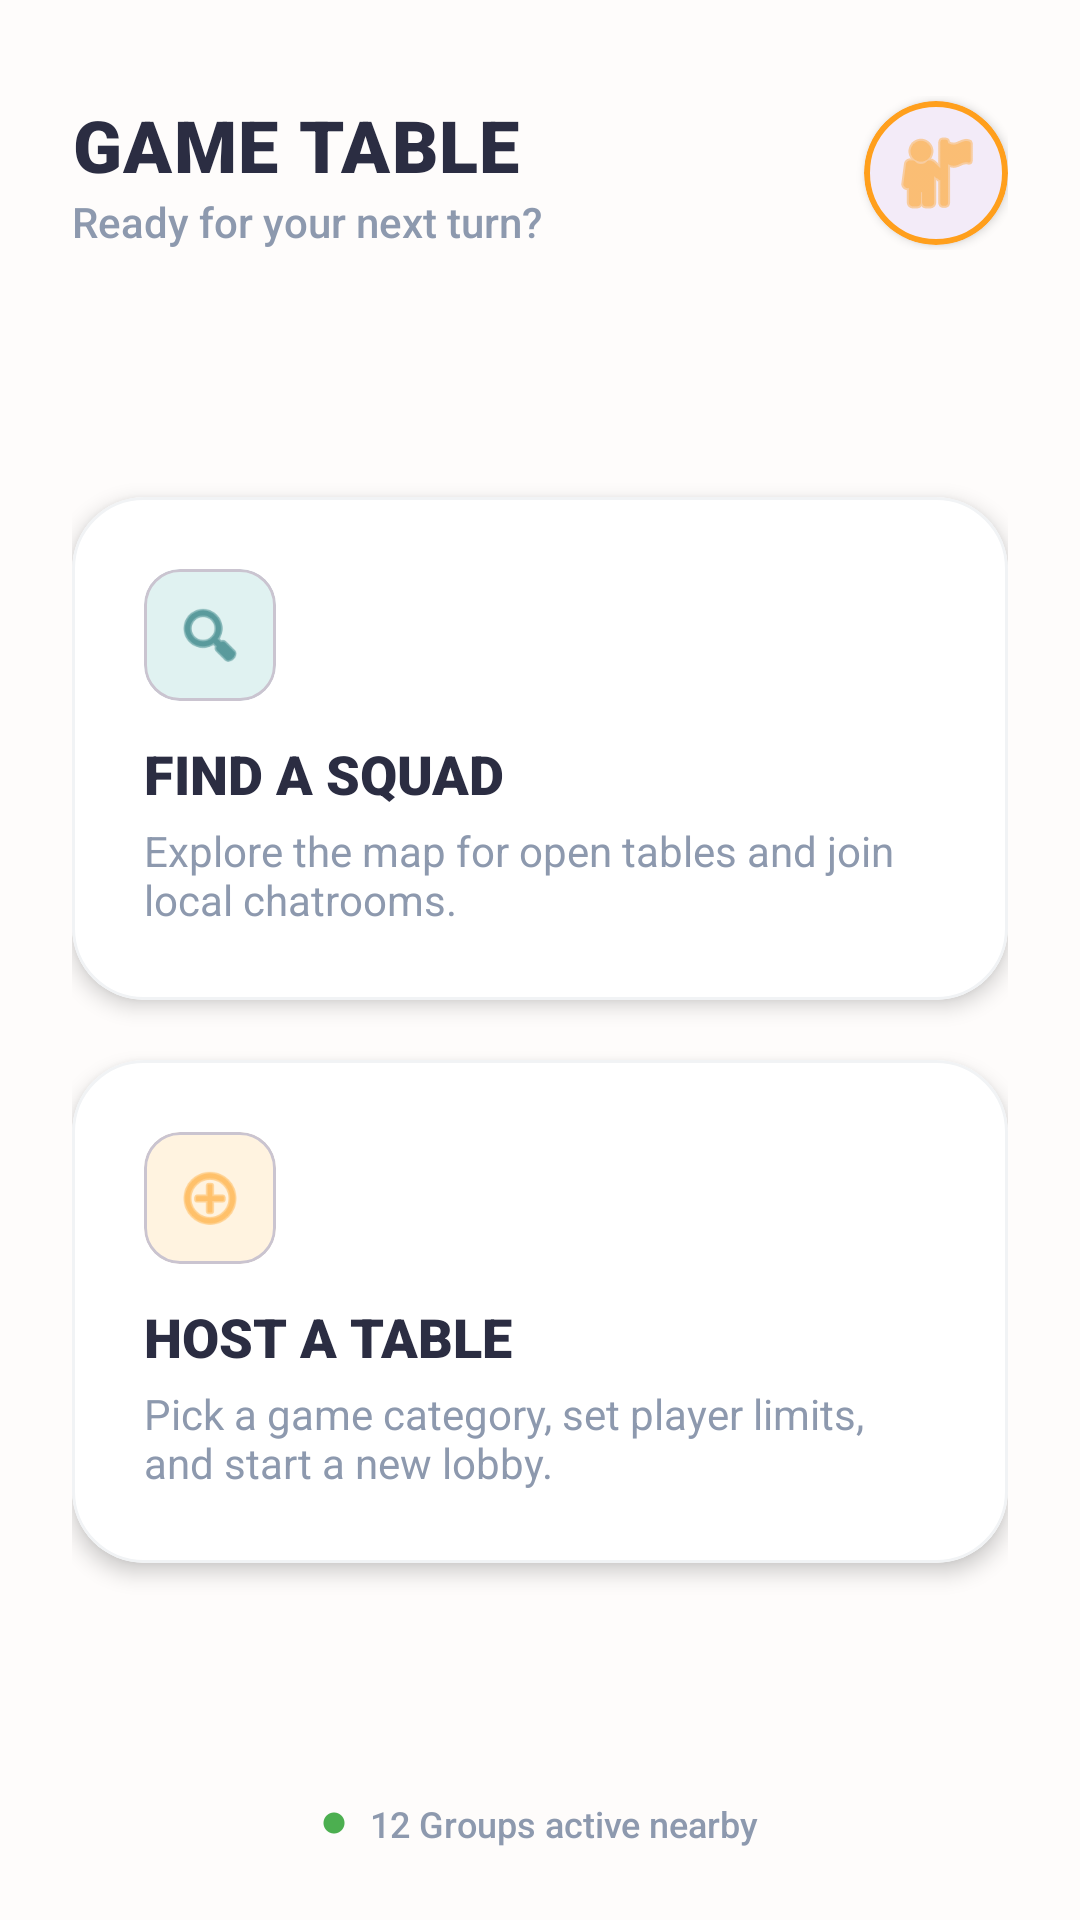

Icon click points for this 1080w x 1920h phone screenshot, format [x,y]:
add: [210,1198]
myplaces: [936,173]
search: [210,635]
